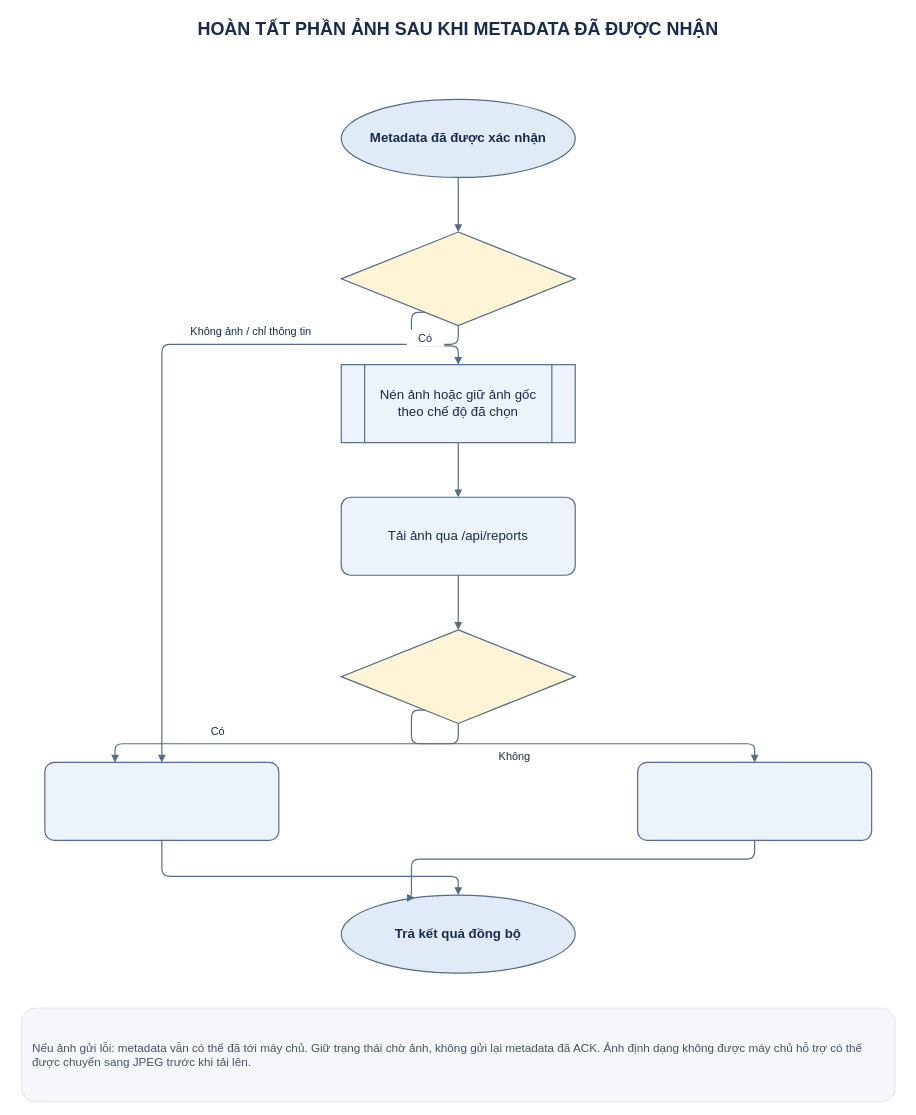
Image size: 916x1115. Some labels were removed from this diagram. The shapes that lost their labels are listed below. From the top down, each one's box as (x1, y1, x2, y2) in pixels, then its label:
(340, 231, 575, 326): Cần gửi ảnh?
(340, 629, 575, 724): Ảnh gửi thành công?
(44, 762, 279, 841): Đánh dấu đồng bộ hoàn tất
(637, 762, 872, 841): Giữ phần ảnh chờ gửi Thử lại khi có điều kiện
